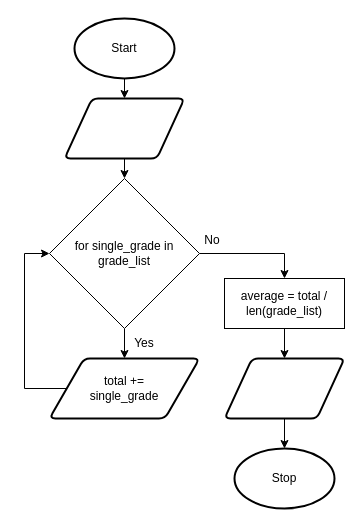
The diagram is 363 pixels wide and 526 high, and some of its shapes have lost their labels. The centre of each missing label's shape, as x and y in pixels:
"get grade_list" goes at (124,128).
"return average" goes at (284,388).
